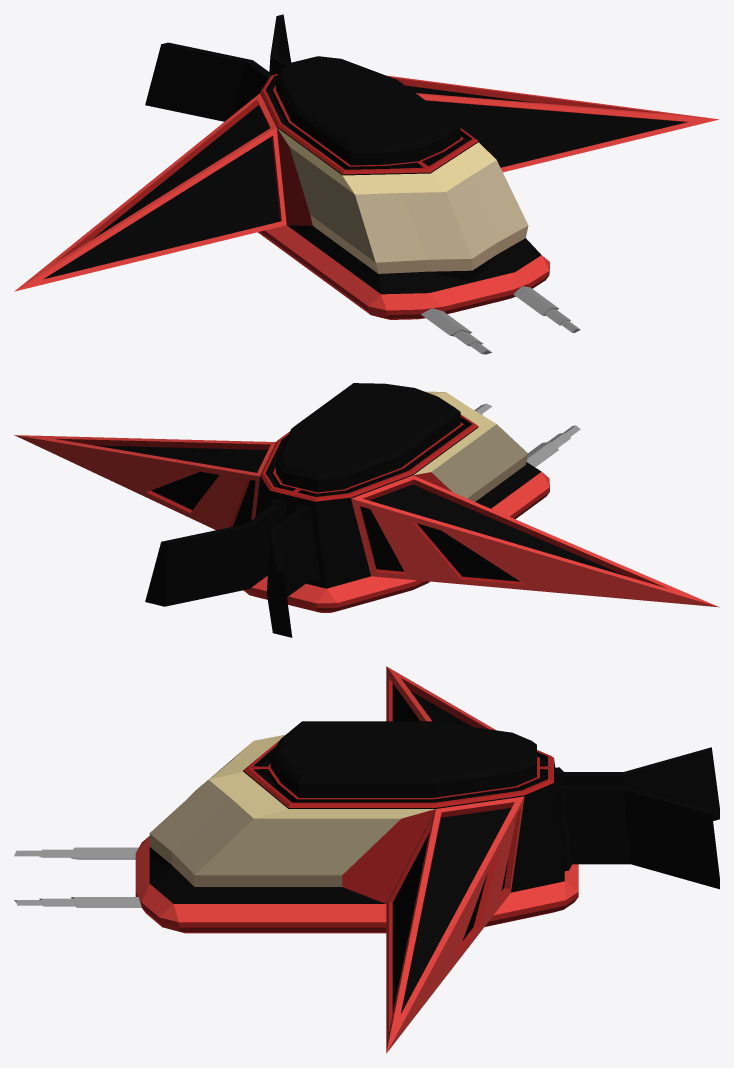
Rendered from Enemy Ship (Type A) fixed axis.fbx.
3 renders of one model, top to bottom at view 1: azimuth 30°, elevation 25°; view 2: azimuth 150°, elevation 25°; view 3: azimuth 270°, elevation 25°, orthographic. The views are drawn at different scales.
Parts seen in each view (by area): view 1: Plane.001, Glow; view 2: Plane.001, Glow; view 3: Plane.001, Glow.
Part boxes in pixels (x1,y1,x2,y2): Plane.001: [43, 14, 688, 354]; Glow: [14, 74, 719, 319]; Plane.001: [54, 383, 666, 637]; Glow: [14, 414, 719, 612]; Plane.001: [14, 678, 719, 1031]; Glow: [135, 666, 578, 1053].
Bounding box in the file's own units: 282 × 48.5 × 217.
